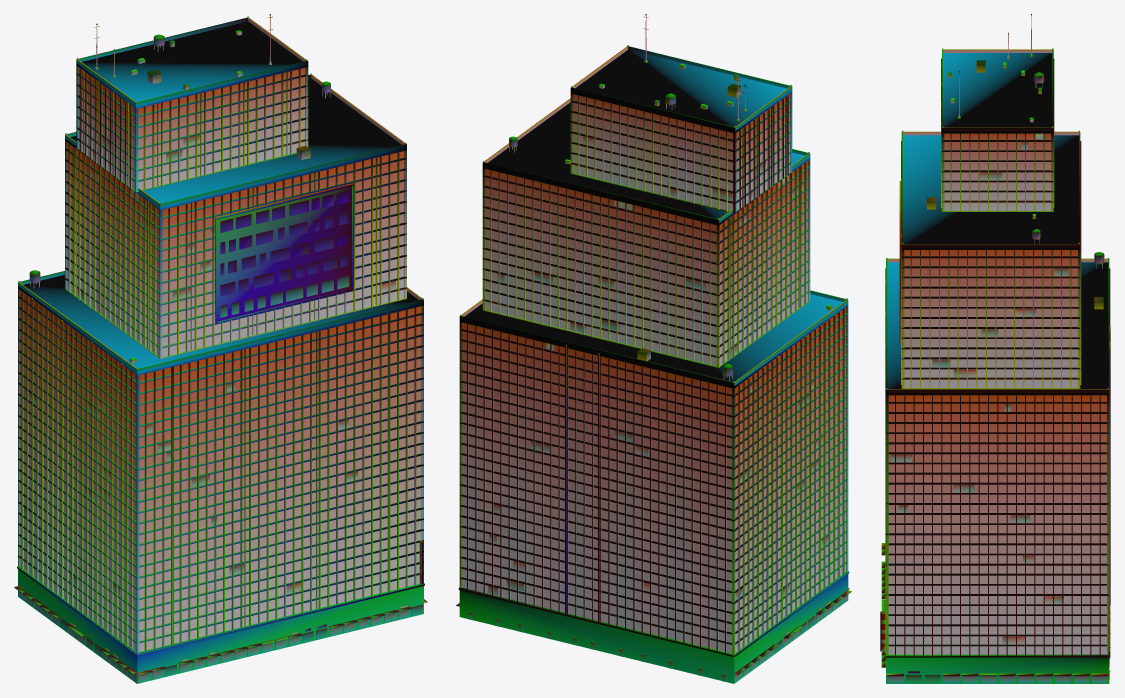
File: Tower_Colossus.fbx
3 views of the same model, side by side, from view 1: azimuth 30°, elevation 25°; view 2: azimuth 150°, elevation 25°; view 3: azimuth 270°, elevation 25° (orthographic). The views are drawn at different scales.
Visible parts, largest first — view 1: Tower_Colossus_LOD0; view 2: Tower_Colossus_LOD0; view 3: Tower_Colossus_LOD0.
Part boxes in pixels (x1,y1,x2,y2): Tower_Colossus_LOD0: [14, 14, 427, 683]; Tower_Colossus_LOD0: [456, 14, 851, 683]; Tower_Colossus_LOD0: [880, 14, 1110, 683].
Size of what is drawn, in the model's own units: 103 by 200 by 74.31.
